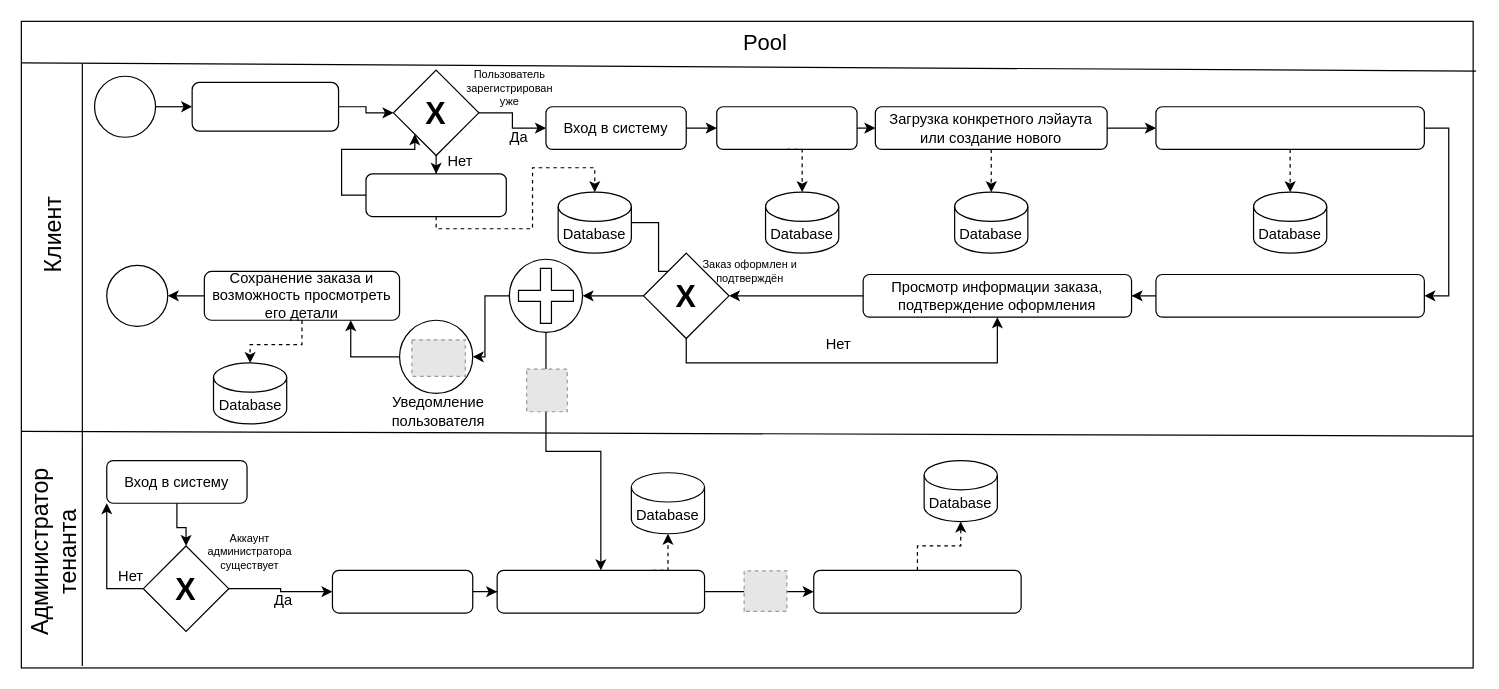
The diagram is 1499 pixels wide and 689 high, and some of its shapes have lost their labels. Grey dashed boxes stand in for pictures. Here are the shapes that lost their labels. From the top down, the centre of each, then its label:
the point at 265,106: Вход в приложение
the point at 786,127: Загрузка лэйаутов
the point at 1289,127: Редактирование лэйаута, загрузка моделей для редактирования
the point at 435,195: Регистрация
the point at 1289,295: Просмотр отрендеренной сцены
the point at 402,591: Вход в аккаунт
the point at 600,591: Просмотр оставленных заявок
the point at 917,591: Изменение статуса заказа
